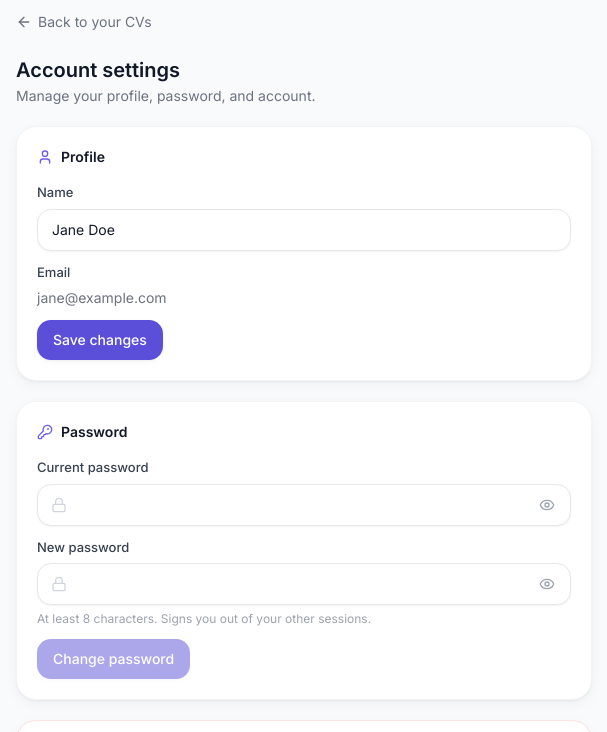
Test: AccountSettingsPage › profile › saves the edited name and shows a confirmation
The width and height of the screenshot is (607, 732).
Replace the text in the field labelled "Name" with "Jane Smith": (304, 230) [37,208,571,250]
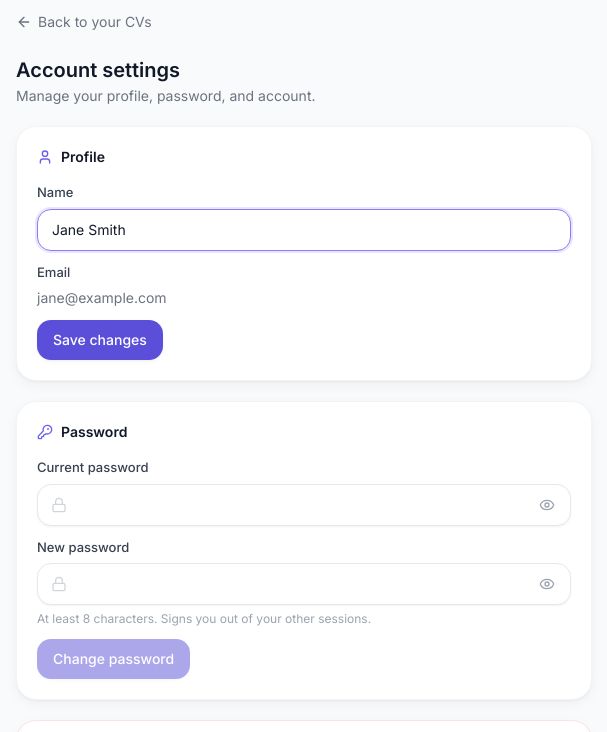
Click the button "Save changes": (100, 340) [37,320,163,360]
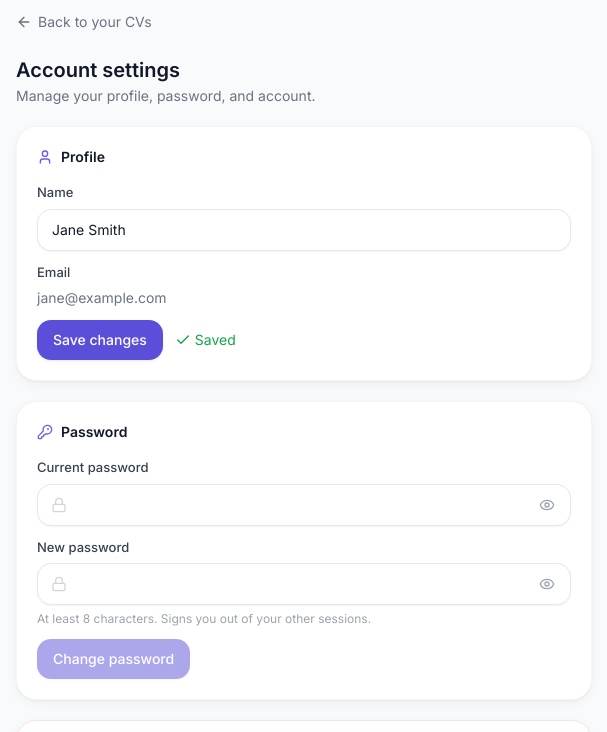
Result: the text "Saved" is shown at [175,330,236,350]
